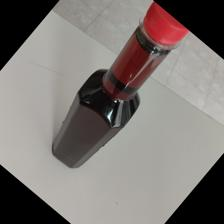Namngu: (49, 2, 193, 171)
